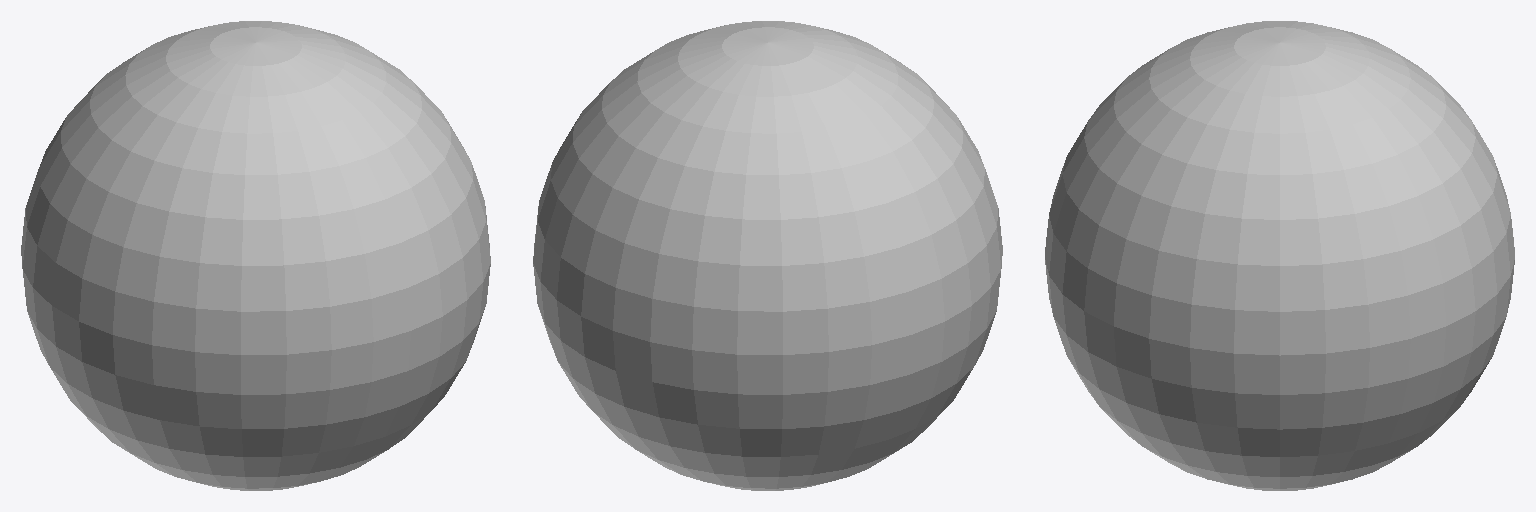
Rendered from Snowball.obj.
The picture shows the model from 3 angles: view 1: azimuth 30°, elevation 25°; view 2: azimuth 150°, elevation 25°; view 3: azimuth 270°, elevation 25°; orthographic projection.
Parts seen in each view (by area): view 1: Sphere_Sphere.002; view 2: Sphere_Sphere.002; view 3: Sphere_Sphere.002.
Part boxes in pixels (bbox=[...]): Sphere_Sphere.002: bbox=[21, 21, 490, 490]; Sphere_Sphere.002: bbox=[533, 21, 1002, 490]; Sphere_Sphere.002: bbox=[1045, 21, 1514, 490].
Bounding box in the file's own units: 2 × 2 × 2.